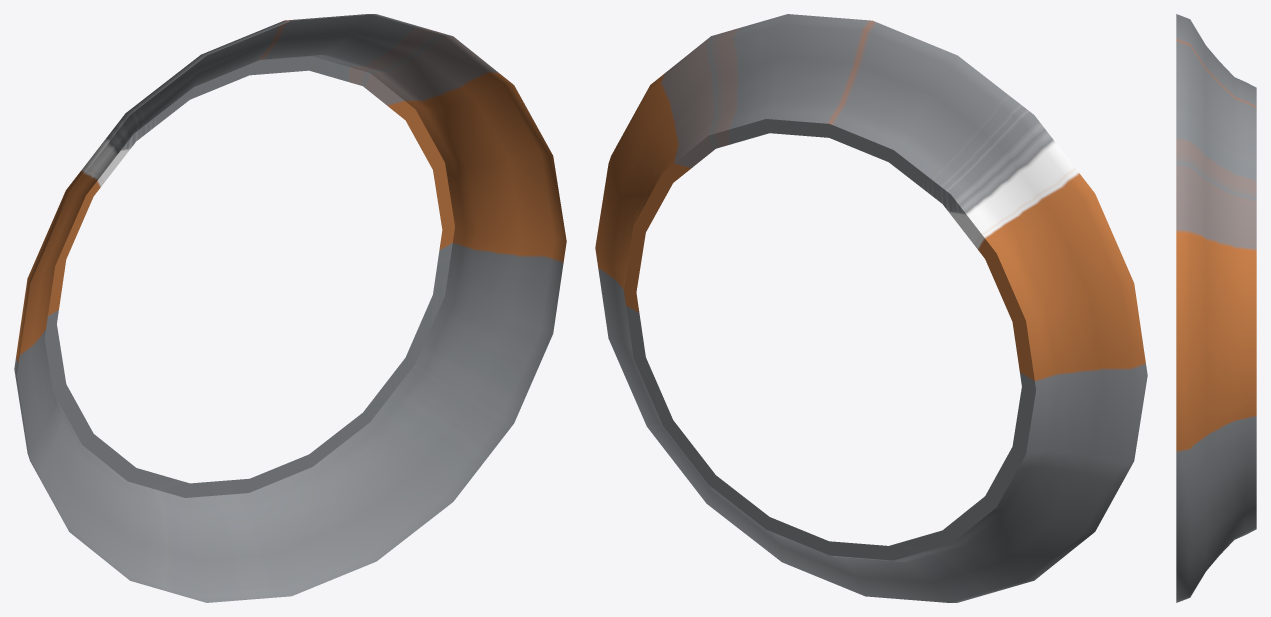
3 views of the same model, side by side, from view 1: azimuth 30°, elevation 25°; view 2: azimuth 150°, elevation 25°; view 3: azimuth 270°, elevation 25° (orthographic). The views are drawn at different scales.
Size of the model in its own units: 0.5275 by 0.5275 by 0.0711.
